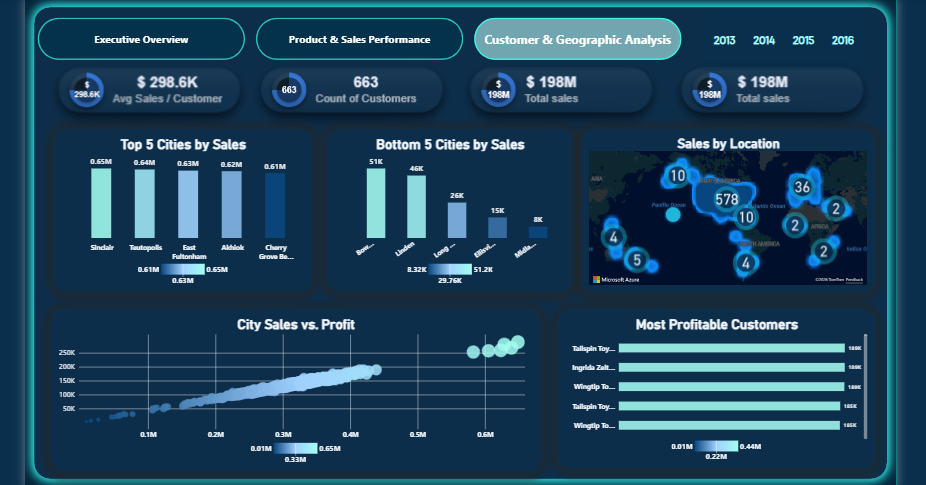

The page's visual inventory and layout, read from the dashboard file:
{"tool":"powerbi","page":{"name":"Customer & Geographic Analysis","canvas":[1920,1080],"ordinal":2},"visuals":[{"type":"shape","box":[0,0,1920,1080],"z":0},{"type":"pageNavigator","box":[0,15.2,1476.7,149.4],"z":1000},{"type":"azureMap","title":"Sales by Location","fields":{"Category":["DimCustomer.DeliveryCityName"],"Size":["FactSales.TOTAL sales"]},"box":[1226,288.8,648.4,359.7],"z":2000},{"type":"clusteredBarChart","title":"Most Profitable Customers","fields":{"Category":["DimCustomer.CustomerName"],"Y":["FactSales.Total prfit"]},"box":[1175.3,686.4,699.1,352.1],"z":3000},{"type":"scatterChart","title":"City Sales vs. Profit","fields":{"Category":["DimCustomer.DeliveryCityName"],"Size":["FactSales.Sales Lines"],"X":["FactSales.TOTAL sales"],"Y":["FactSales.Total prfit"]},"box":[58.3,686.4,1079.1,357.2],"z":4000},{"type":"columnChart","title":"Top 5 Cities by Sales","fields":{"Category":["DimCustomer.DeliveryCityName"],"Y":["FactSales.TOTAL sales"]},"box":[63.9,288.7,568.7,359.3],"z":5000},{"type":"columnChart","title":"Bottom 5 Cities by Sales","fields":{"Category":["DimCustomer.DeliveryCityName"],"Y":["FactSales.TOTAL sales"]},"box":[665.6,288.7,542.2,359.3],"z":6000},{"type":"nexoraButtonSlicer74A92BB1DAE480BBC09C4B425BA7007","fields":{"category":["DimDate.CalendarYear"]},"box":[1476.7,15.4,412.2,163.1],"z":7000},{"type":"STANDALONEhtmlContent443BE3AD55E043BF878BED274D3A6855","fields":{"content":["HTML.HTML_avg unit price"]},"box":[480.5,99.2,480.5,229.2],"z":8000},{"type":"STANDALONEhtmlContent443BE3AD55E043BF878BED274D3A6855","fields":{"content":["HTML.Avg_Sales_Per_Customer_HTML"]},"box":[22,99.2,502.5,211.6],"z":9000},{"type":"STANDALONEhtmlContent443BE3AD55E043BF878BED274D3A6855","fields":{"content":["HTML.HTMLSales Lines"]},"box":[905.9,99.2,551,211.6],"z":9001},{"type":"STANDALONEhtmlContent443BE3AD55E043BF878BED274D3A6855","fields":{"content":["HTML.HTMLSales Lines"]},"box":[1375.3,99.2,544.4,229.2],"z":9002}]}

Visuals, with their boxes on the page's 1920x1080 design canvas (x1, y1, x2, y2). These are canvas units, not pixel positions in the 926x485 screenshot, which may show the page scaled, cropped or inside an application window:
shape: 0, 0, 1920, 1080
pageNavigator: 0, 15, 1477, 165
"Sales by Location" azureMap: 1226, 289, 1874, 648
"Most Profitable Customers" clusteredBarChart: 1175, 686, 1874, 1038
"City Sales vs. Profit" scatterChart: 58, 686, 1137, 1044
"Top 5 Cities by Sales" columnChart: 64, 289, 633, 648
"Bottom 5 Cities by Sales" columnChart: 666, 289, 1208, 648
nexoraButtonSlicer74A92BB1DAE480BBC09C4B425BA7007 - DimDate.CalendarYear: 1477, 15, 1889, 178
STANDALONEhtmlContent443BE3AD55E043BF878BED274D3A6855 - HTML.HTML_avg unit price: 480, 99, 961, 328
STANDALONEhtmlContent443BE3AD55E043BF878BED274D3A6855 - HTML.Avg_Sales_Per_Customer_HTML: 22, 99, 524, 311
STANDALONEhtmlContent443BE3AD55E043BF878BED274D3A6855 - HTML.HTMLSales Lines: 906, 99, 1457, 311
STANDALONEhtmlContent443BE3AD55E043BF878BED274D3A6855 - HTML.HTMLSales Lines: 1375, 99, 1920, 328
